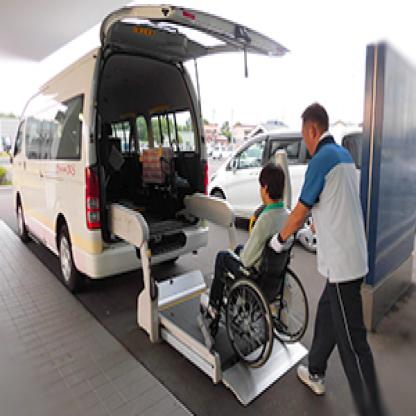wheelchair: (198, 161, 310, 372)
